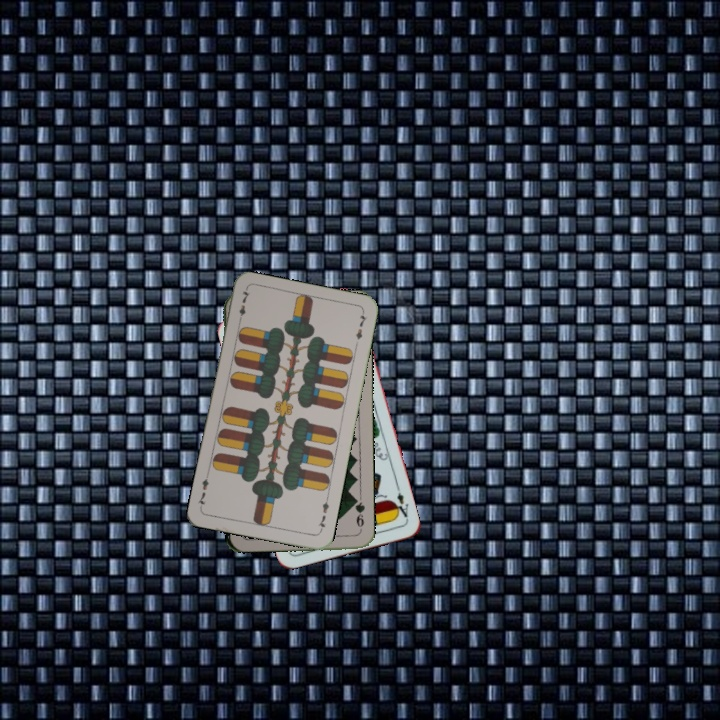E7: (314, 494, 332, 534), (234, 286, 252, 326)
EA: (390, 483, 411, 522)
G9: (350, 494, 367, 534)
